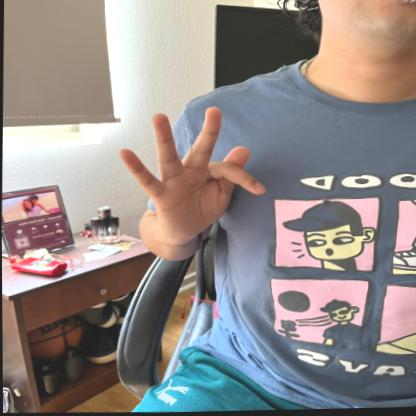F: (113, 98, 267, 249)
